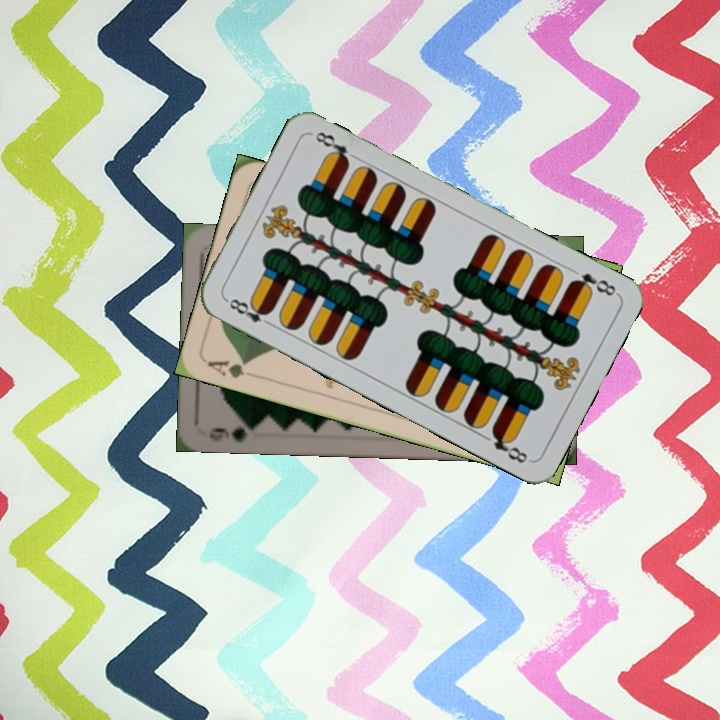E8: (221, 294, 276, 329), (567, 268, 620, 299)
G9: (205, 418, 261, 445)
GA: (203, 356, 260, 381)
